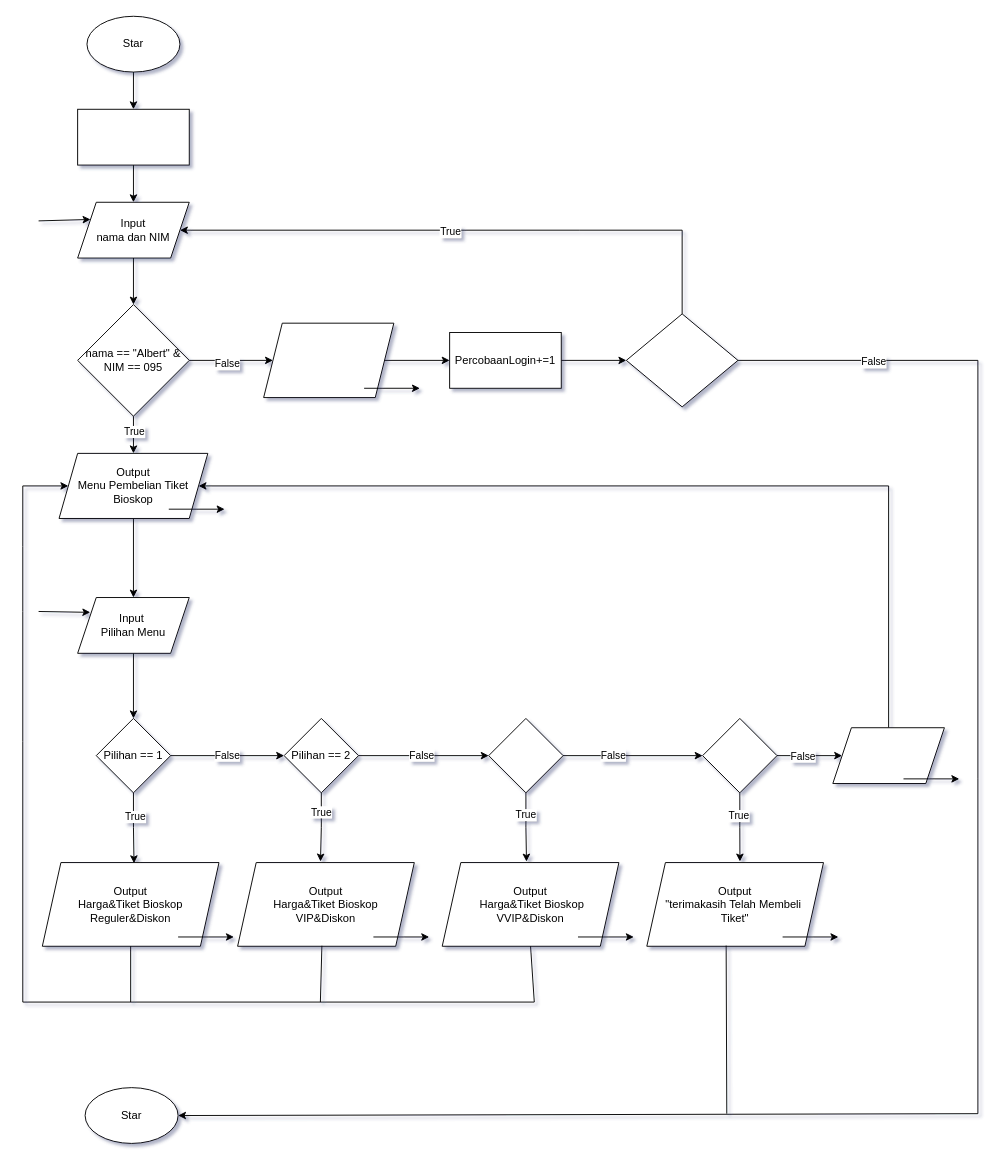
Some shapes in this 1007 by 1165 pixel diagram are drawn without their labels. Here are the shapes that lost their labels. From the top down, the centre of each, then its label:
the point at 133,136: PercobaanLogin = 0
the point at 328,360: Output nama atau NIM tidak sesuai
the point at 681,360: PercobaanLogin < 3
the point at 525,755: Pilihan == 3
the point at 739,755: Pilihan == 4
the point at 888,755: Output "Pilihan tidak valid"
